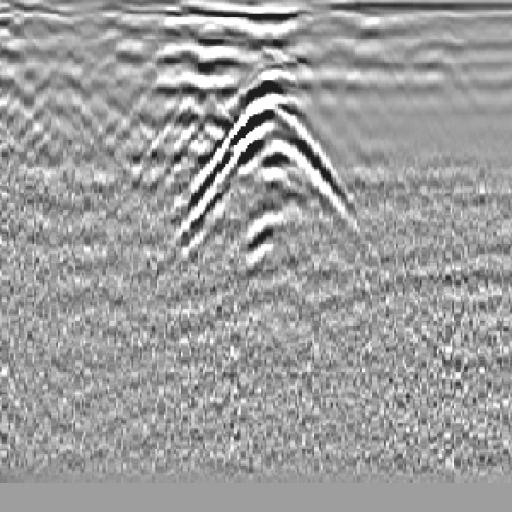metalic: (157, 40, 387, 268)
